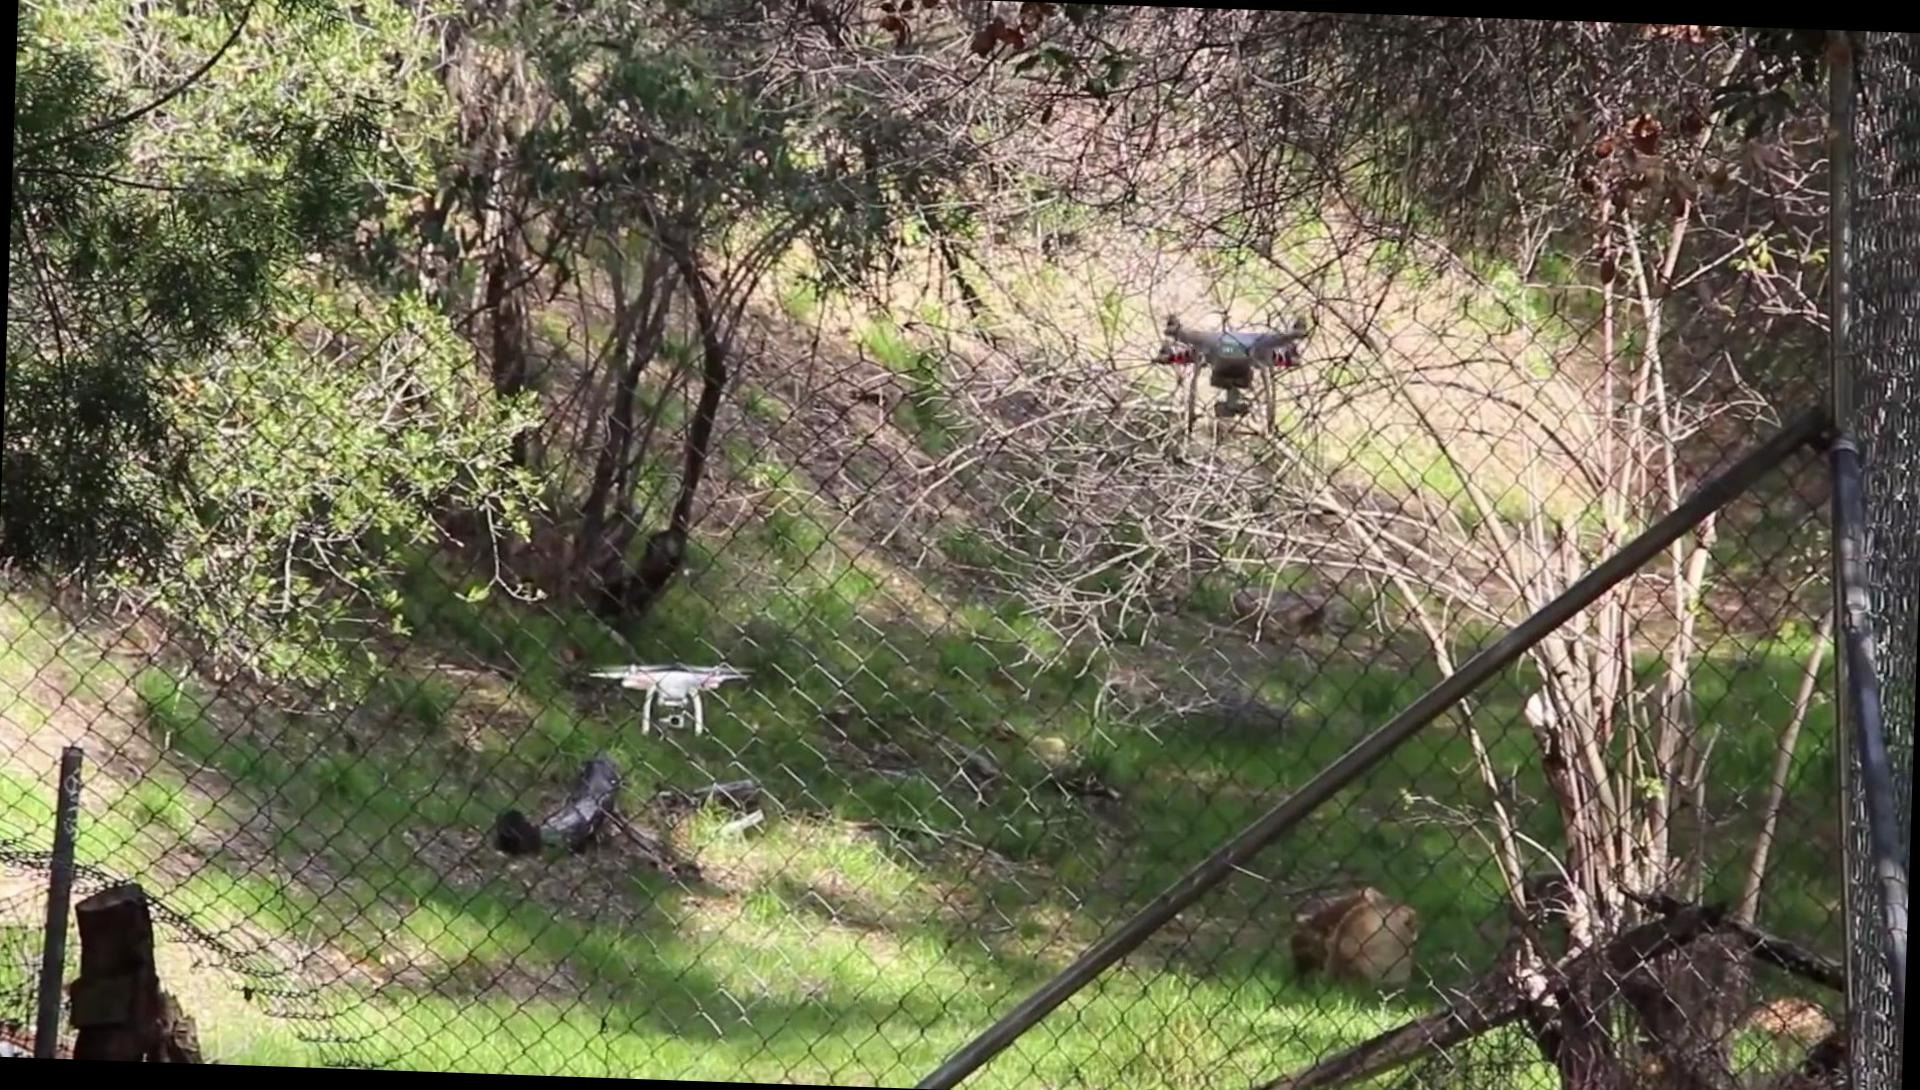drone: (1151, 302, 1320, 426), (572, 652, 752, 741)
